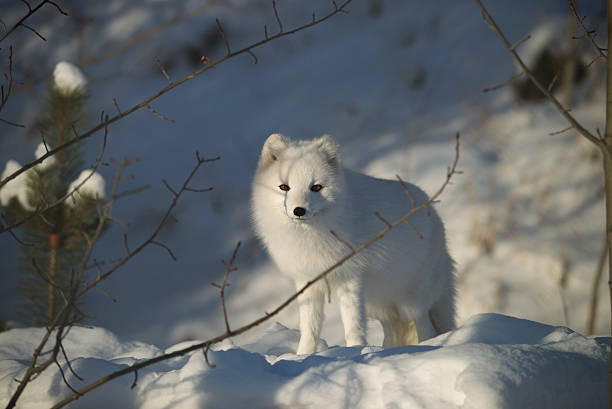arcticfox: (255, 140, 343, 233)
